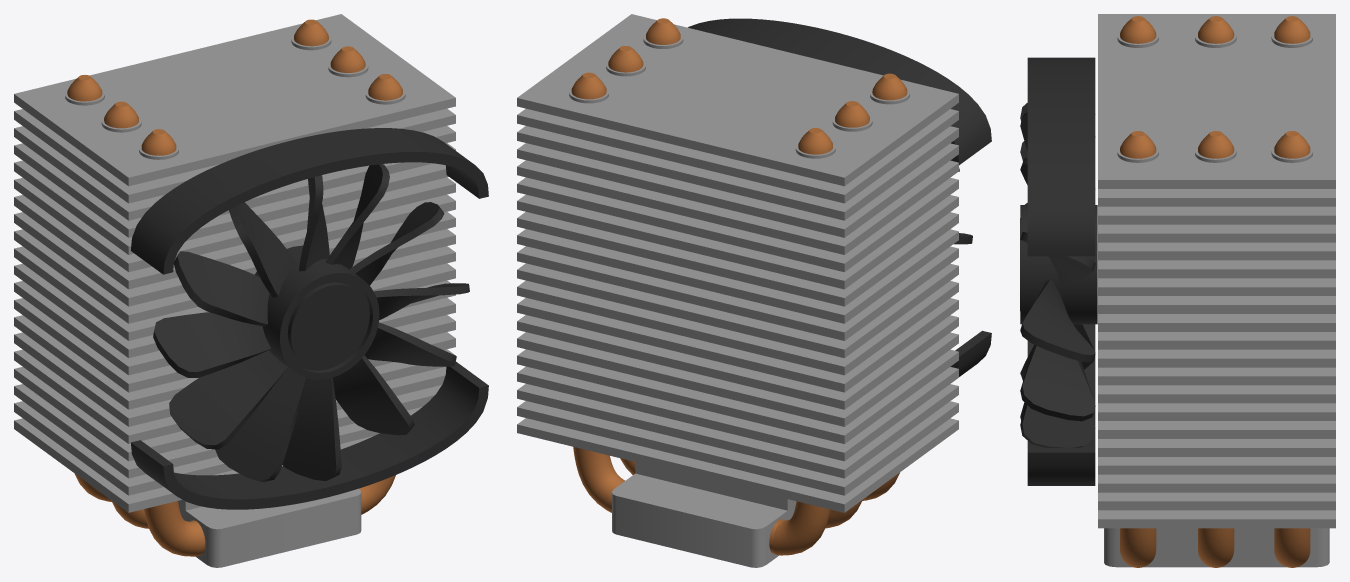
Rendered from CARMAN CNPS5X.fbx.
3 renders of one model, left to right at view 1: azimuth 30°, elevation 25°; view 2: azimuth 150°, elevation 25°; view 3: azimuth 270°, elevation 25°, orthographic. The views are drawn at different scales.
Parts seen in each view (by area): view 1: Cube, Plane.010, Cube.001, Cube.002, Cylinder.002, Cube.003, Cylinder.011, Cylinder.008; view 2: Cube, Cube.003, Cylinder.011, Cube.001, Cylinder.008, Cube.002; view 3: Cube, Cube.001, Plane.010, Cylinder.011, Cube.003, Cylinder.002, Cube.002, Cylinder.008.
Boxes of the visible parts, box(x1,y1,x2,y2) form: Cube: box(14, 14, 455, 512); Plane.010: box(153, 164, 469, 482); Cube.001: box(131, 128, 488, 274); Cube.002: box(131, 361, 488, 509); Cylinder.002: box(254, 245, 379, 379); Cube.003: box(178, 488, 361, 567); Cylinder.011: box(67, 19, 402, 556); Cylinder.008: box(65, 34, 405, 159); Cube: box(517, 14, 958, 512); Cube.003: box(612, 462, 796, 567); Cylinder.011: box(571, 18, 907, 555); Cube.001: box(688, 18, 991, 165); Cylinder.008: box(569, 33, 909, 158); Cube.002: box(950, 330, 991, 376); Cube: box(1098, 14, 1335, 528); Cube.001: box(1027, 57, 1095, 256); Plane.010: box(1020, 103, 1095, 447); Cylinder.011: box(1120, 16, 1310, 567); Cube.003: box(1104, 528, 1329, 567); Cylinder.002: box(1020, 205, 1097, 324); Cube.002: box(1027, 324, 1095, 485); Cylinder.008: box(1117, 31, 1312, 162).
Bounding box in the file's own units: 199 × 253 × 160.
